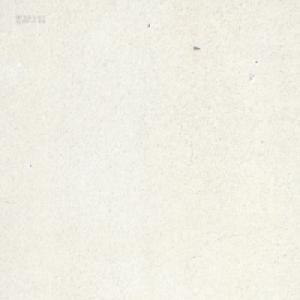Nail: (193, 44, 200, 50)
